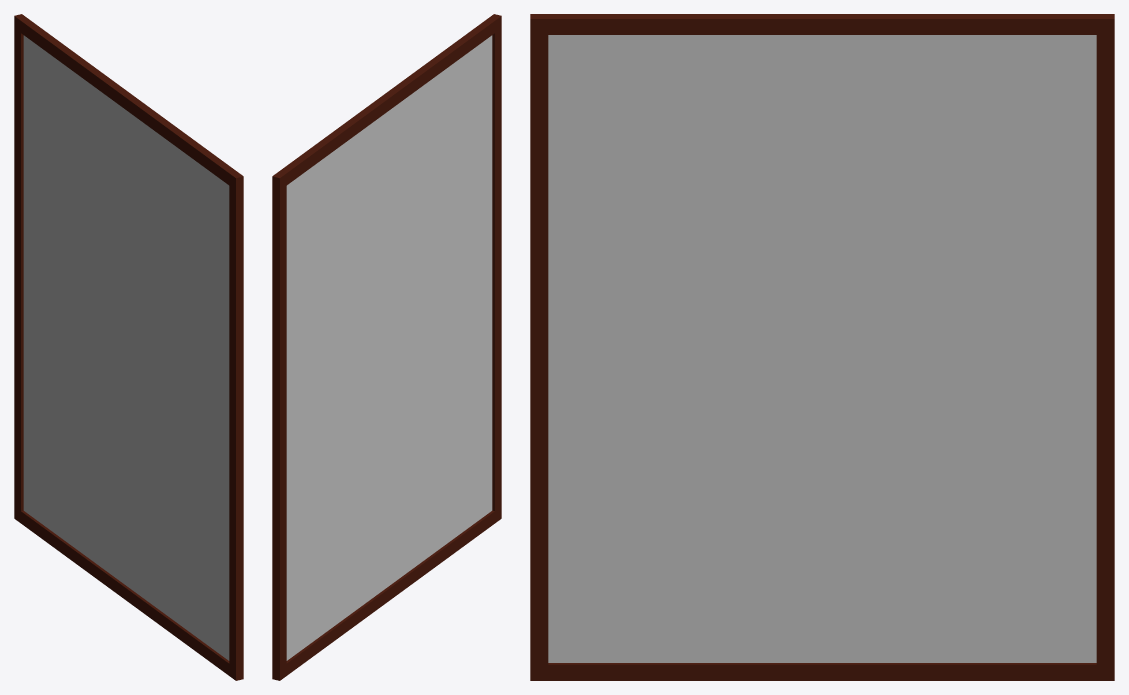
File: GlassWall.FBX
3 views of the same model, side by side, from view 1: azimuth 30°, elevation 25°; view 2: azimuth 150°, elevation 25°; view 3: azimuth 270°, elevation 25° (orthographic). The views are drawn at different scales.
Parts seen in each view (by area): view 1: Glass, GlassFrame; view 2: Glass, GlassFrame; view 3: Glass, GlassFrame.
Boxes of the visible parts, x1,y1,x2,y2 form: Glass: (23,35,229,660); GlassFrame: (14,14,243,680); Glass: (286,35,492,660); GlassFrame: (272,14,501,680); Glass: (548,35,1096,662); GlassFrame: (530,14,1114,680).
Bounding box in the file's own units: 4 × 200 × 250.
